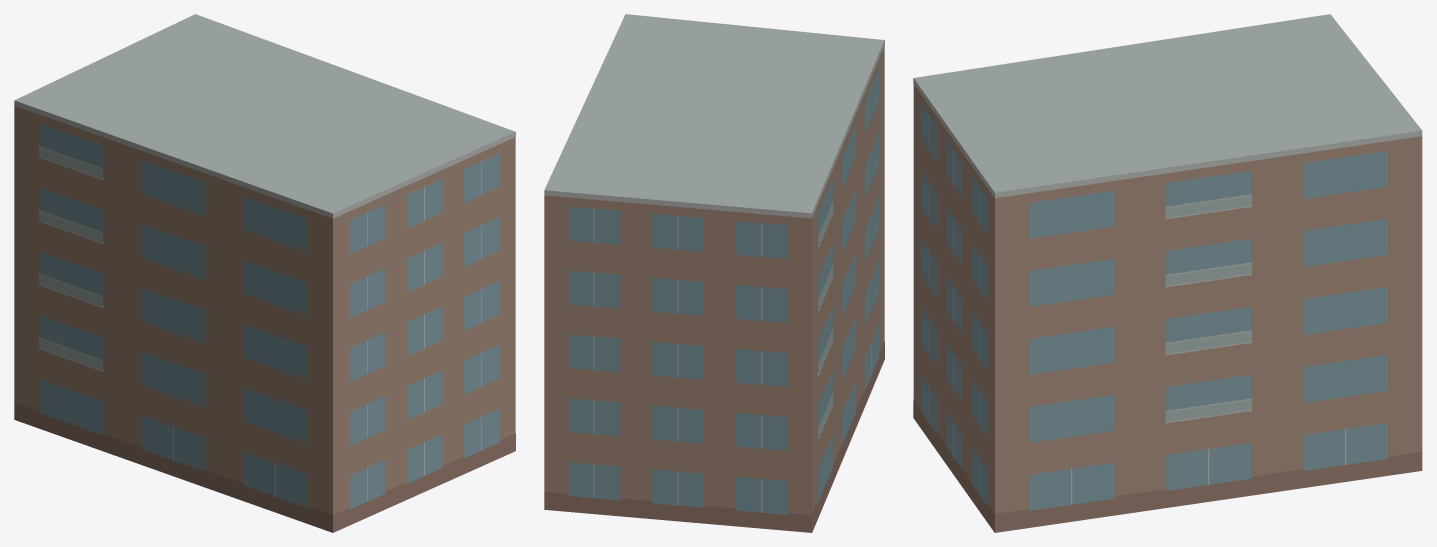
File: survey-upis-32954238.glb
3 renders of one model, left to right at view 1: azimuth 30°, elevation 25°; view 2: azimuth 150°, elevation 25°; view 3: azimuth 270°, elevation 25°, orthographic. The views are drawn at different scales.
Visible parts, largest first — view 1: survey-upis-32954238.tmp; view 2: survey-upis-32954238.tmp; view 3: survey-upis-32954238.tmp.
Boxes of the visible parts, left/top/right/bottom form: survey-upis-32954238.tmp: left=14, top=14, right=515, bottom=532; survey-upis-32954238.tmp: left=544, top=14, right=884, bottom=532; survey-upis-32954238.tmp: left=913, top=14, right=1422, bottom=532.
Bounding box in the file's own units: 16.92 × 15 × 20.35.
